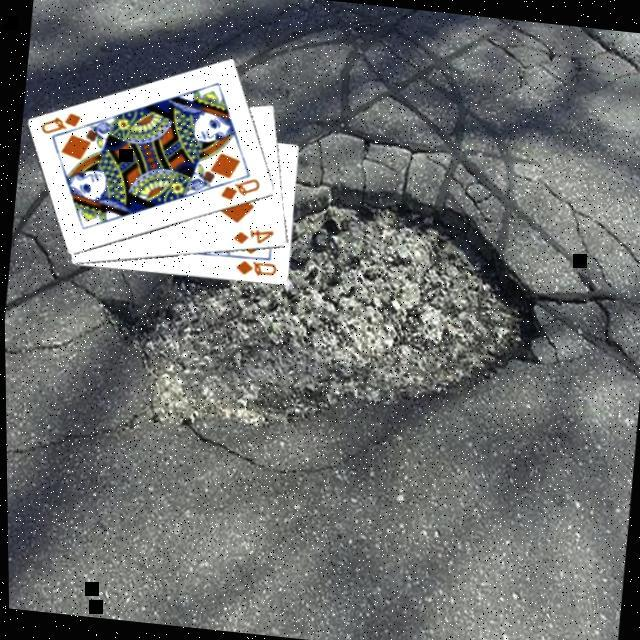4D: (229, 222, 277, 248)
QD: (38, 104, 86, 139), (217, 169, 264, 204), (231, 253, 280, 280)
